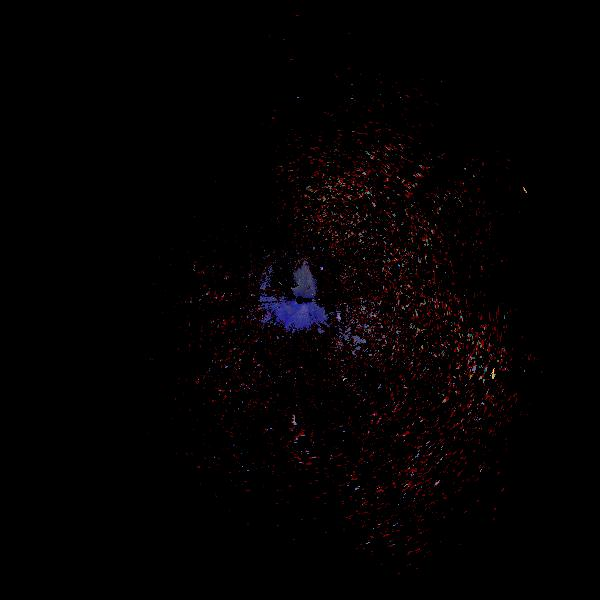roost: (279, 410, 300, 431)
